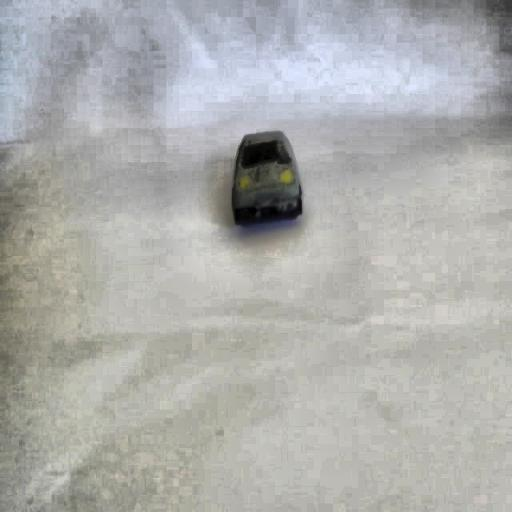normal_car: (229, 127, 304, 226)
